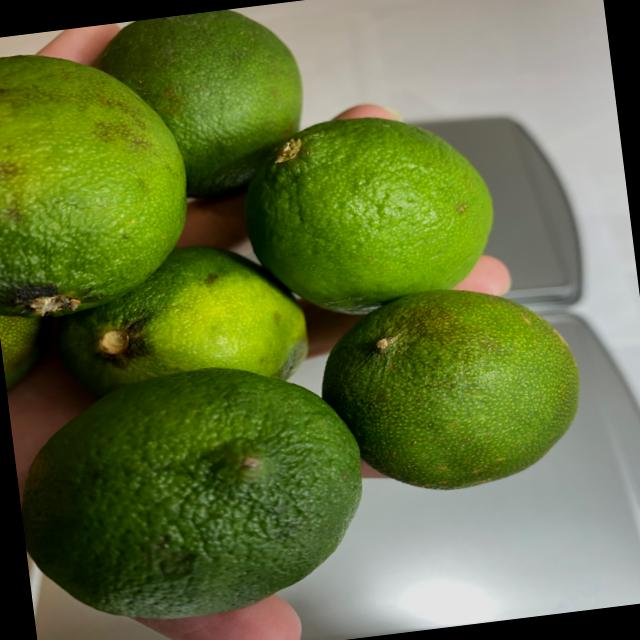lemon: (0, 0, 611, 634)
